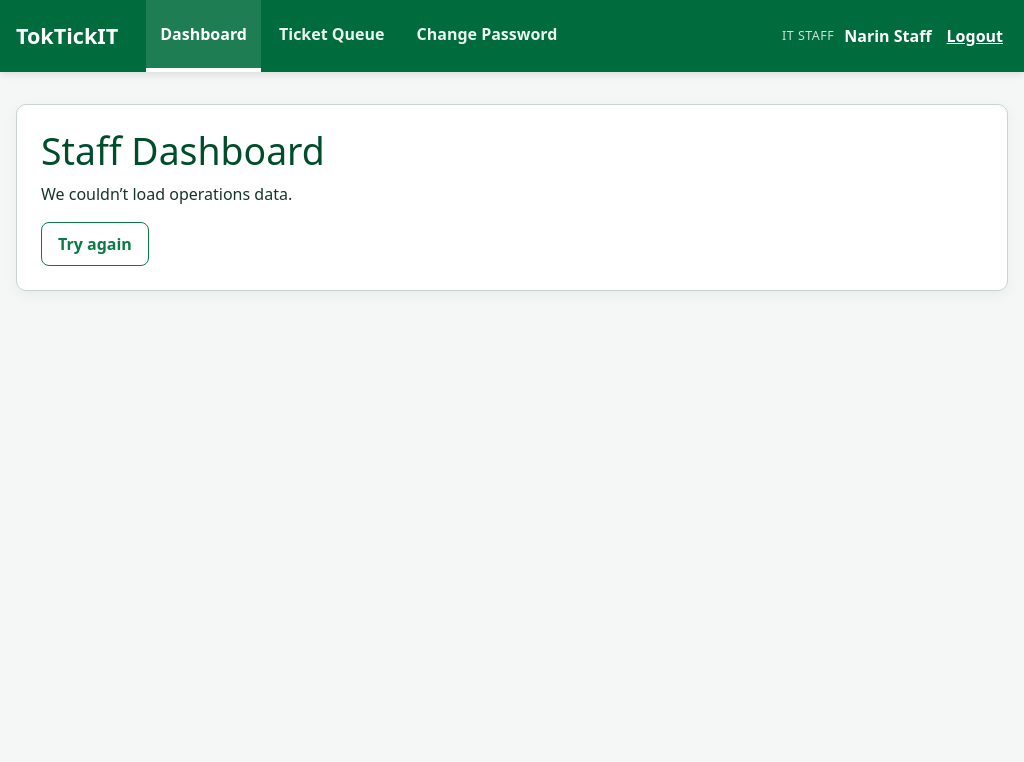
Test case: Staff Dashboard › shows a safe failure and retries without exposing backend details
Expected: the message reads "We couldn’t load operations data.", [41,183,292,205]
Click the button "Try again": (95, 244) [41,222,149,266]
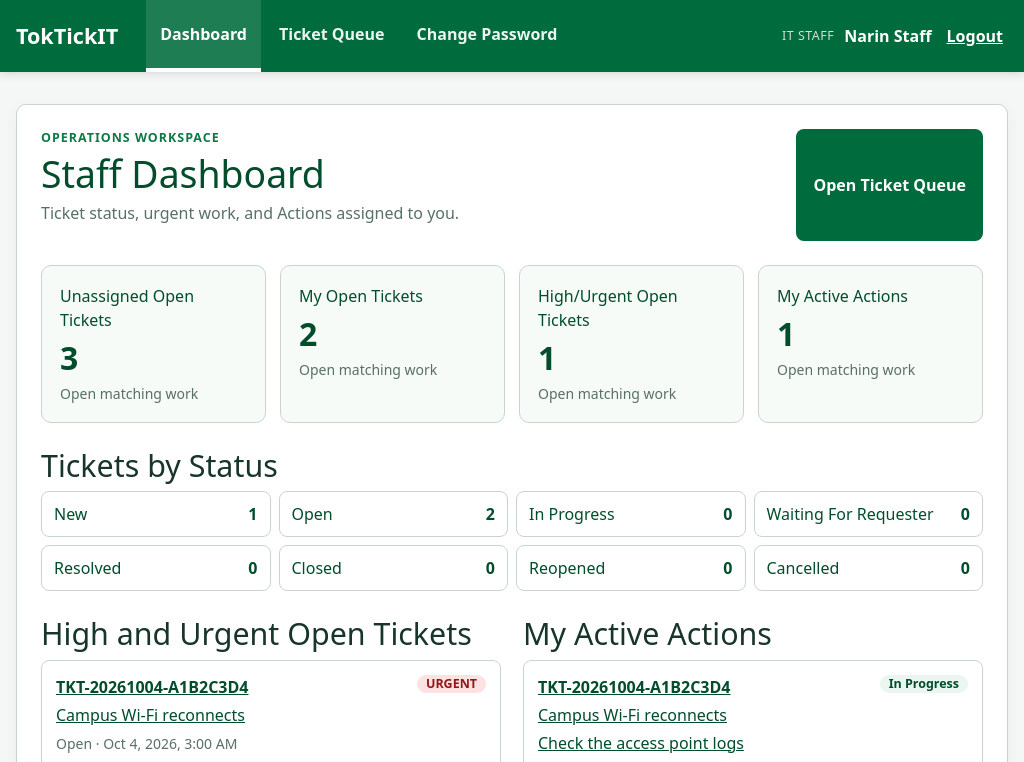
Expected: the heading "Tickets by Status" is shown, [41,444,278,486]
